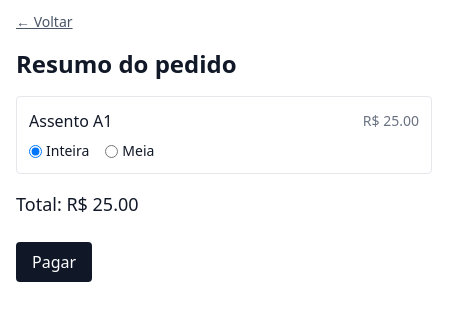
Scenario: CheckoutPage (integration) › should show an error and never create a checkout when the atomic booking request fails
This screenshot has width=449, height=323.
Expected: the text "Assento A1" is shown, [29, 109, 112, 133]
WHEN the user tries to pay
Click the button "Pagar" at coordinates (54, 262), box [16, 242, 92, 282]
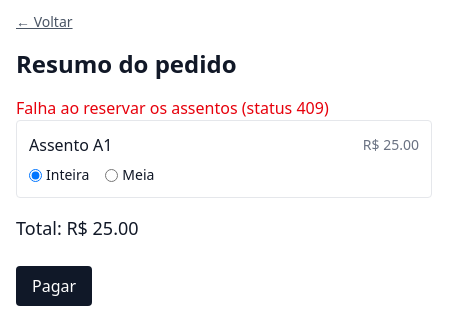
Expected: the button "Pagar" is enabled, [16, 266, 92, 306]
Result: the message shows "status 409" at [16, 97, 329, 119]
